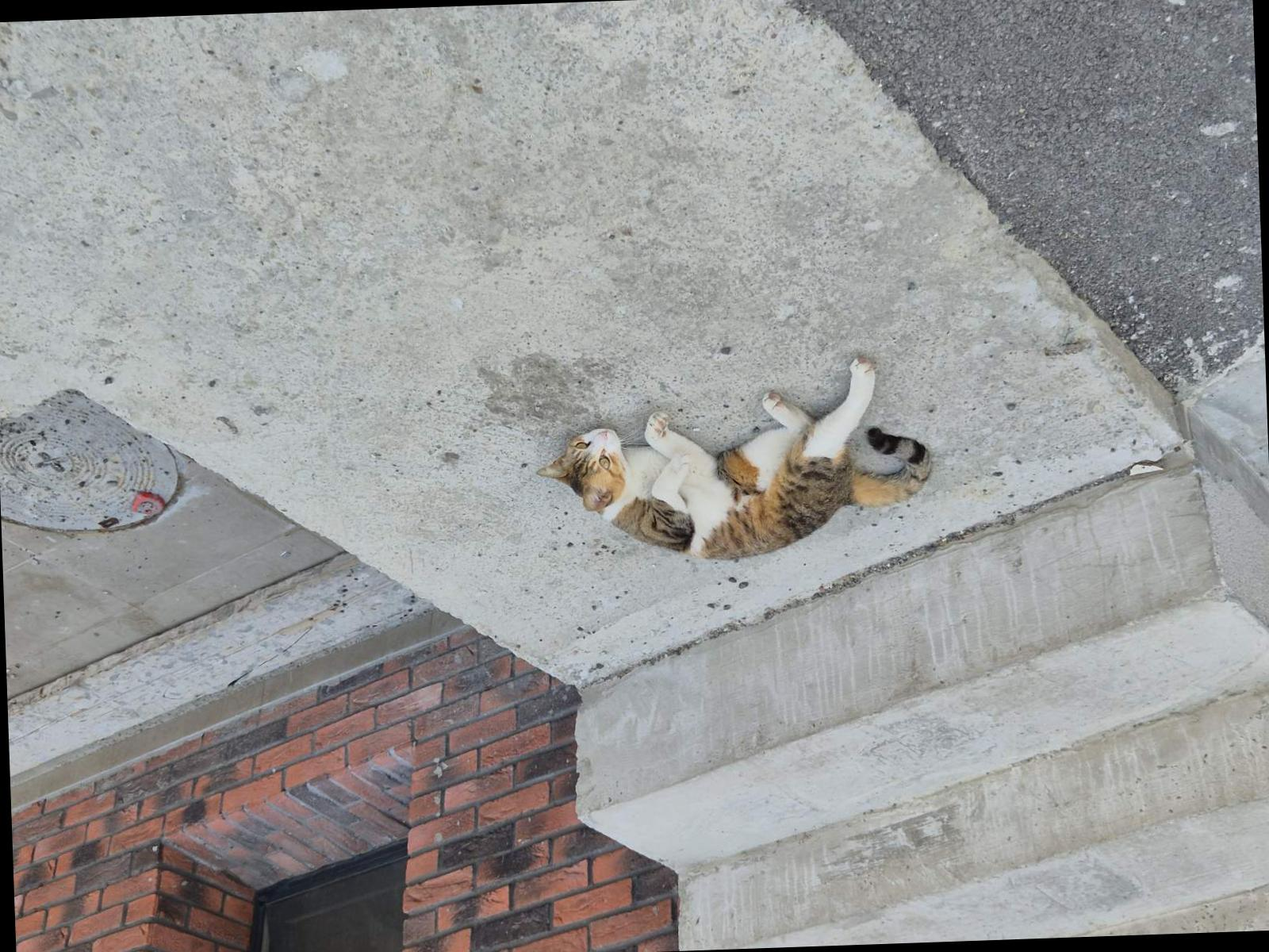macka: (533, 353, 934, 568)
